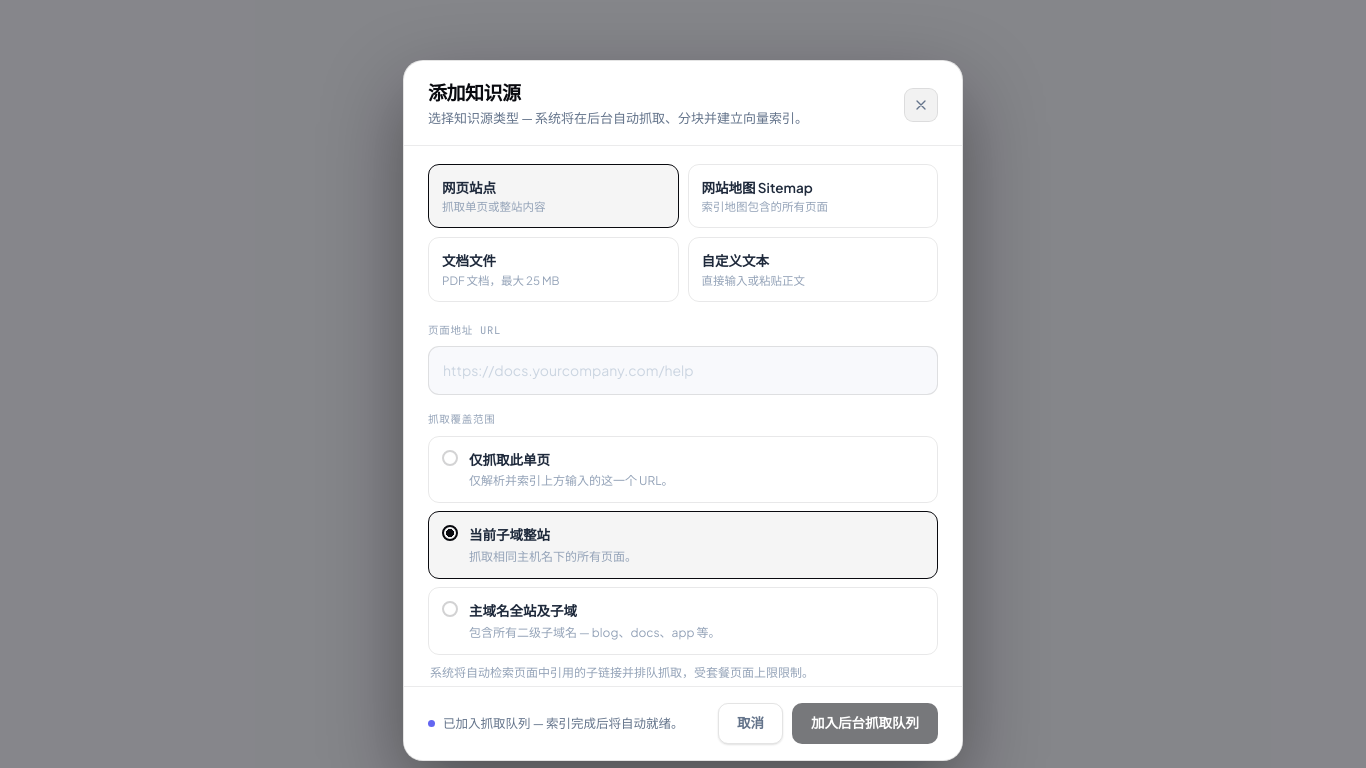
KnowledgeAddSourceModal crawl scope › names the section when the URL has a path
This screenshot has width=1366, height=768.
In the field with id "kb-add-url": (683,371) [428,346,938,395], type "https://help.example.com/hc/en"
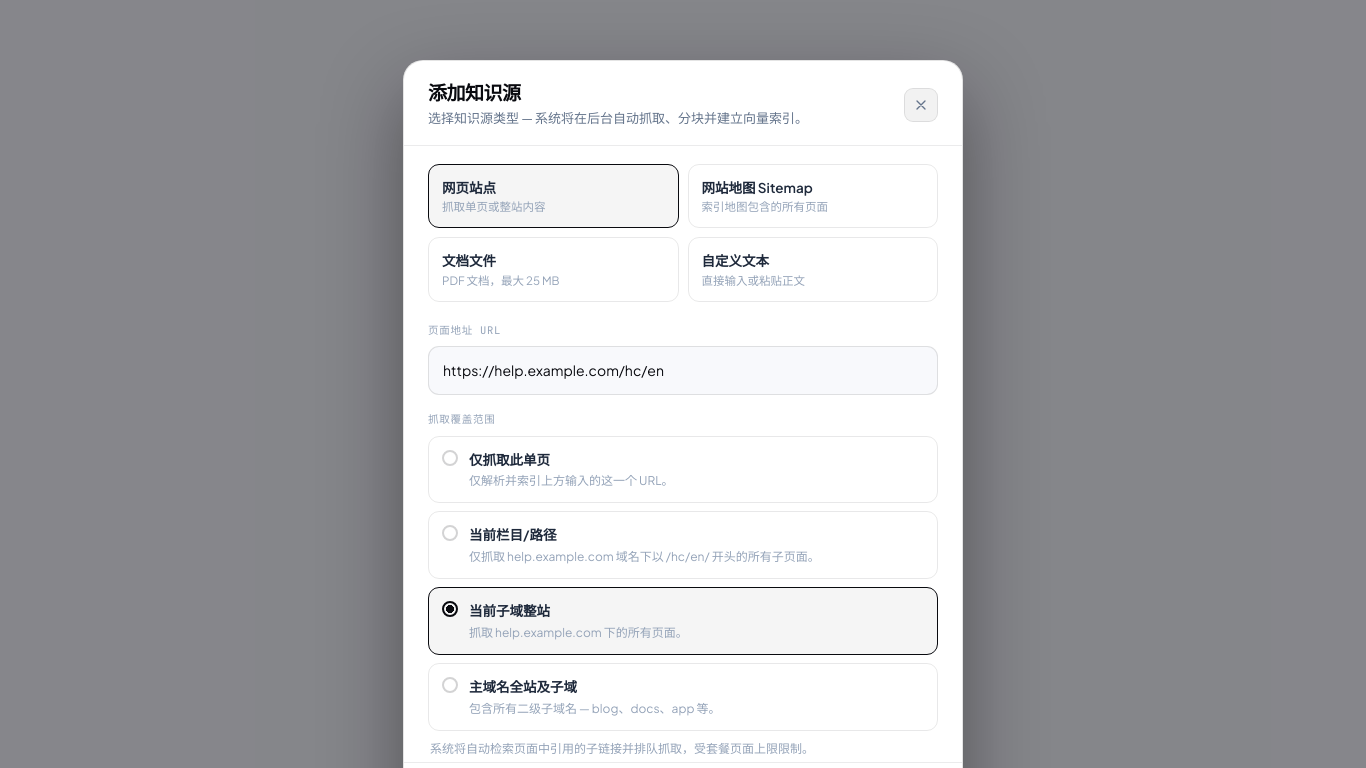
Expected: the text "当前栏目/路径" is shown, [469,526,556,543]
Expected: the button "当前栏目/路径 仅抓取 help.example.com 域名下以 /hc/en/ 开头的所有子页面。" is shown, [428,511,938,579]
